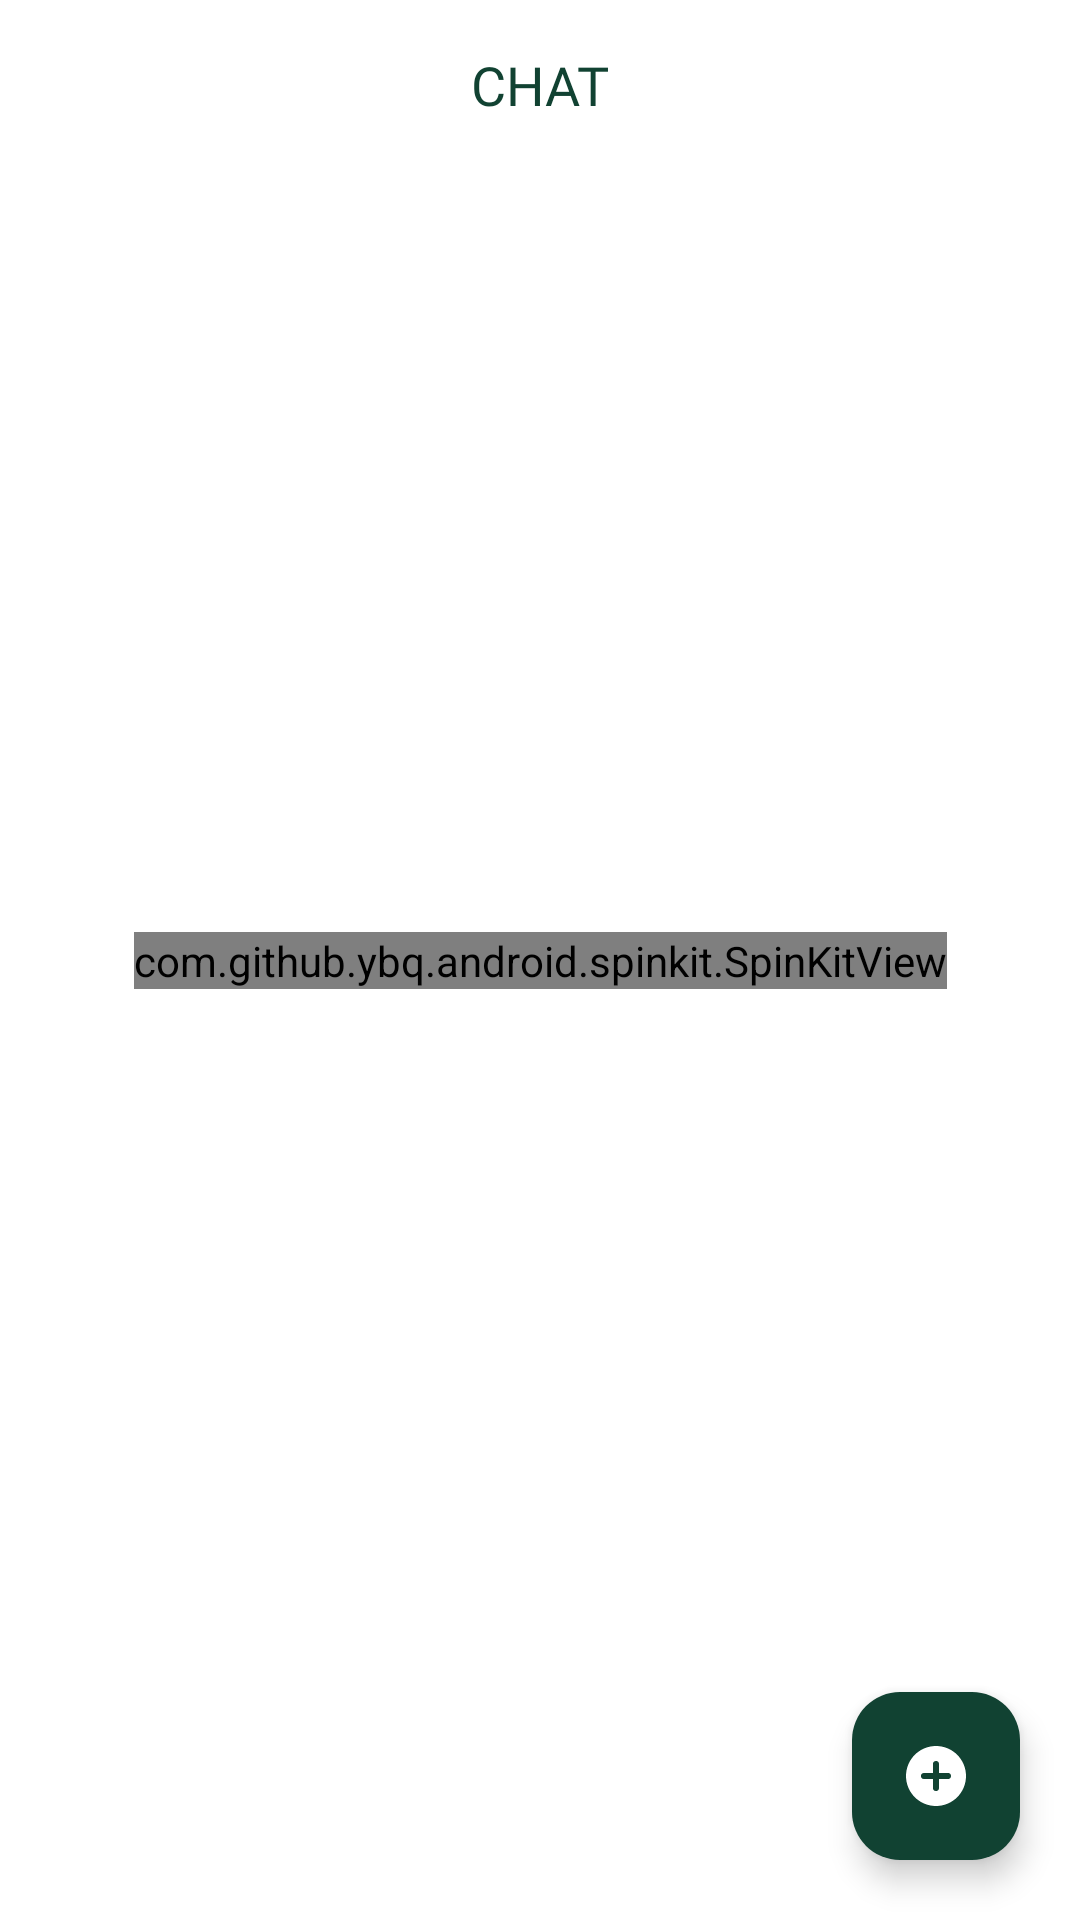

Icons on this 1080x1920 Android screen, each with the point to tap as (x=x, y=y):
plus: (x=936, y=1776)
